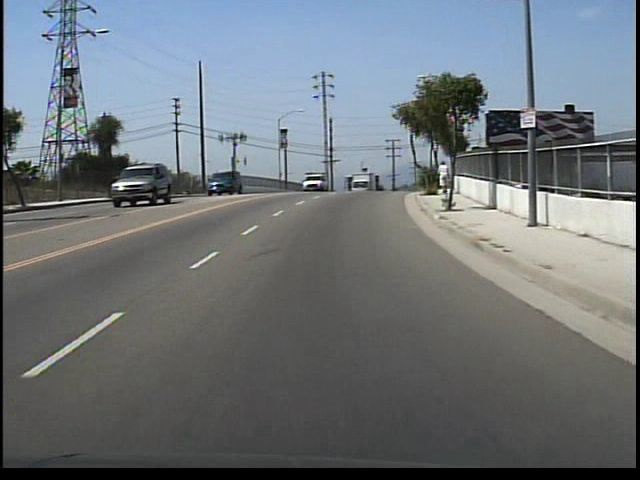person: (437, 158, 453, 195)
